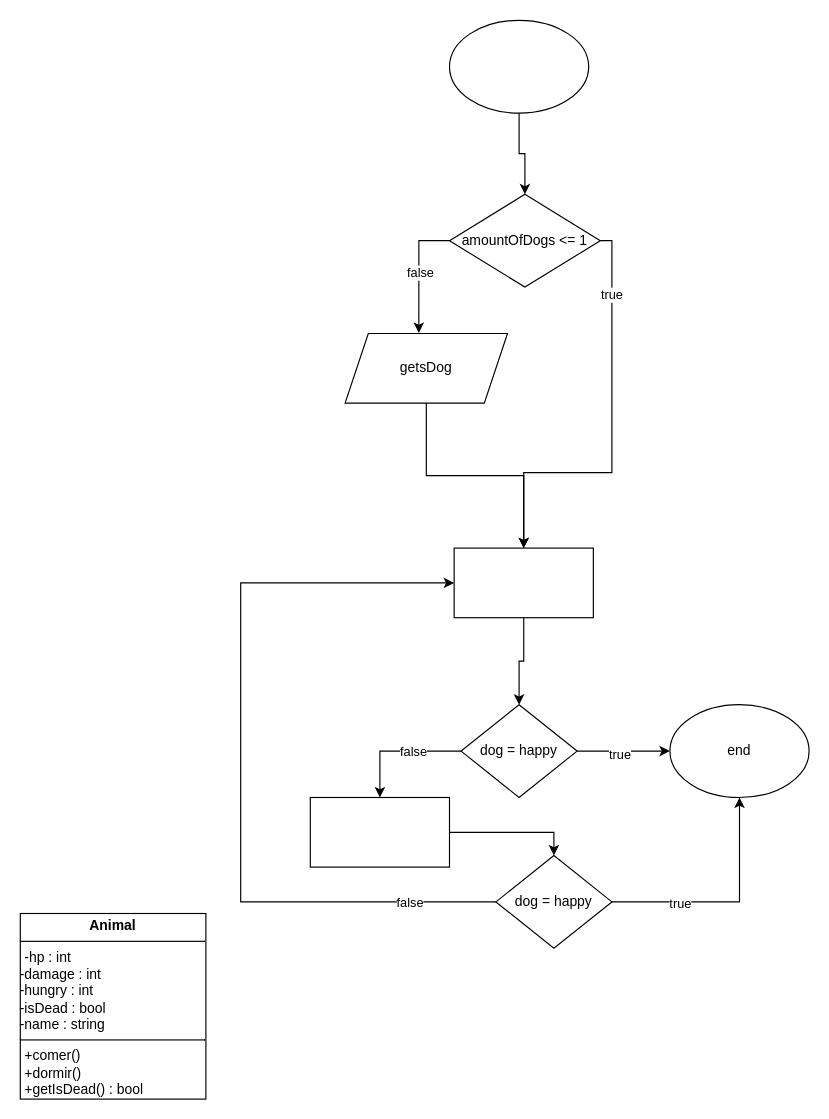
This 829x1119 diagram has some shape labels left out. Here are the shapes that lost their labels. From the top down, the centre of each, then its label:
At [518,66]: "makeDogHappy()".
At [523,582]: "petTheDog".
At [379,831]: "getsFood()".
